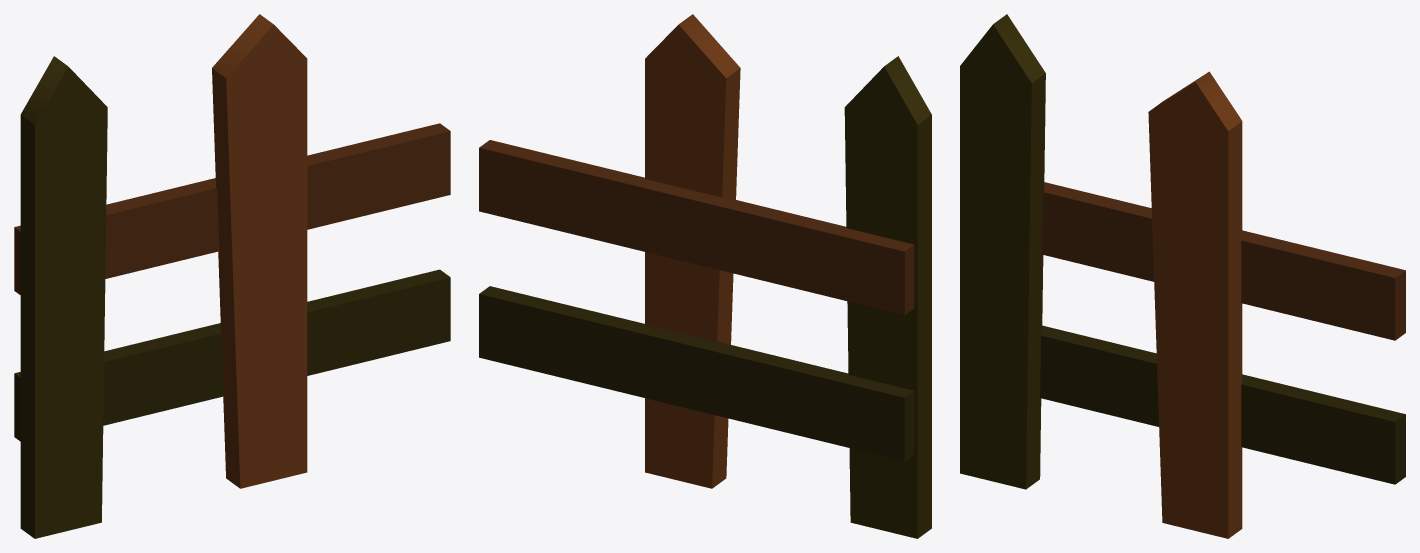
The model's file is fence1.fbx.
3 views of the same model, side by side, from view 1: azimuth 30°, elevation 25°; view 2: azimuth 150°, elevation 25°; view 3: azimuth 330°, elevation 25° (orthographic).
Parts seen in each view (by area): view 1: fence1; view 2: fence1; view 3: fence1.
Part boxes in pixels (<box>): fence1: <box>14,14,450,538</box>; fence1: <box>479,14,931,538</box>; fence1: <box>960,14,1405,538</box>.
Size of the model in its own units: 1649 by 1706 by 159.
